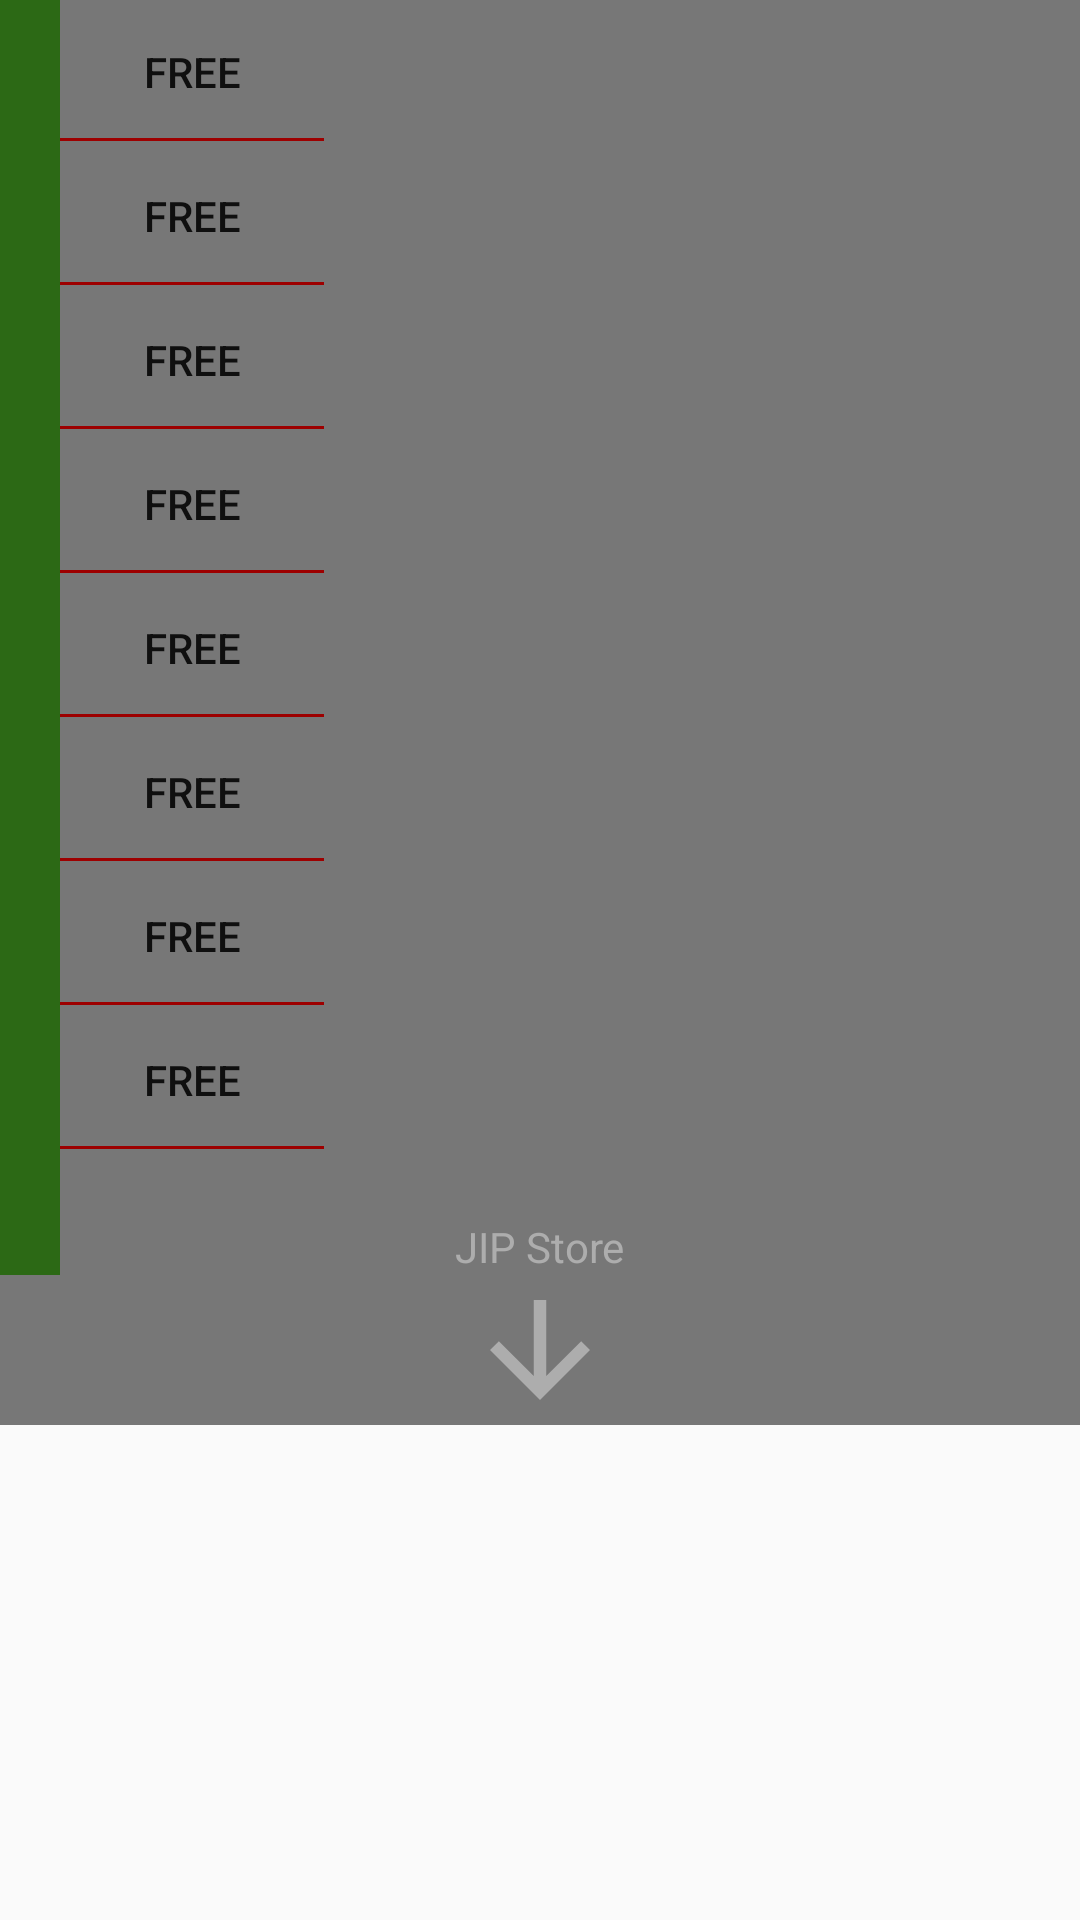

Where icons sit on this 1080 x 1920 app screen, as (x1, y1, x2, y2):
arrow downward: (490, 1300, 590, 1400)
